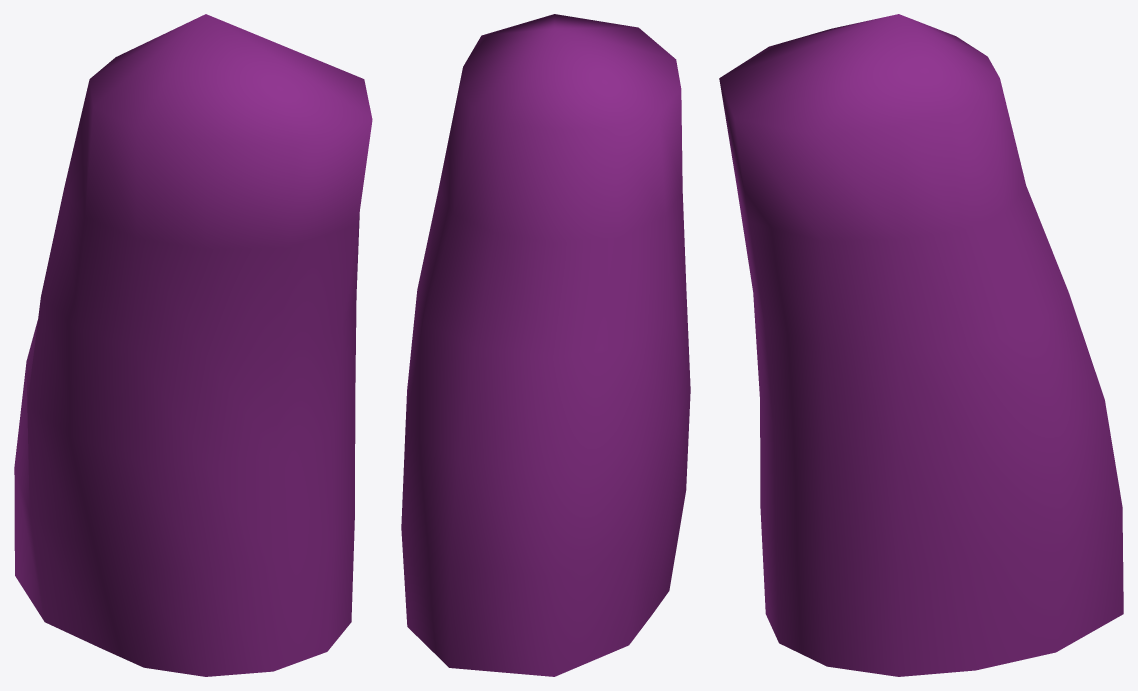
File: nebula_armor_boot.L.glb
3 renders of one model, left to right at view 1: azimuth 30°, elevation 25°; view 2: azimuth 150°, elevation 25°; view 3: azimuth 270°, elevation 25°, orthographic. The views are drawn at different scales.
Visible parts, largest first — view 1: nebula_armor_boot.L; view 2: nebula_armor_boot.L; view 3: nebula_armor_boot.L.
Part boxes in pixels (left/top/right/bottom): nebula_armor_boot.L: left=14, top=14, right=372, bottom=676; nebula_armor_boot.L: left=401, top=14, right=690, bottom=676; nebula_armor_boot.L: left=719, top=14, right=1123, bottom=676.
Bounding box in the file's own units: 0.1318 × 0.288 × 0.1759.
